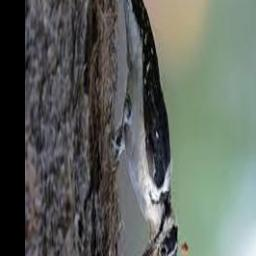Woodpecker: (112, 0, 189, 256)
